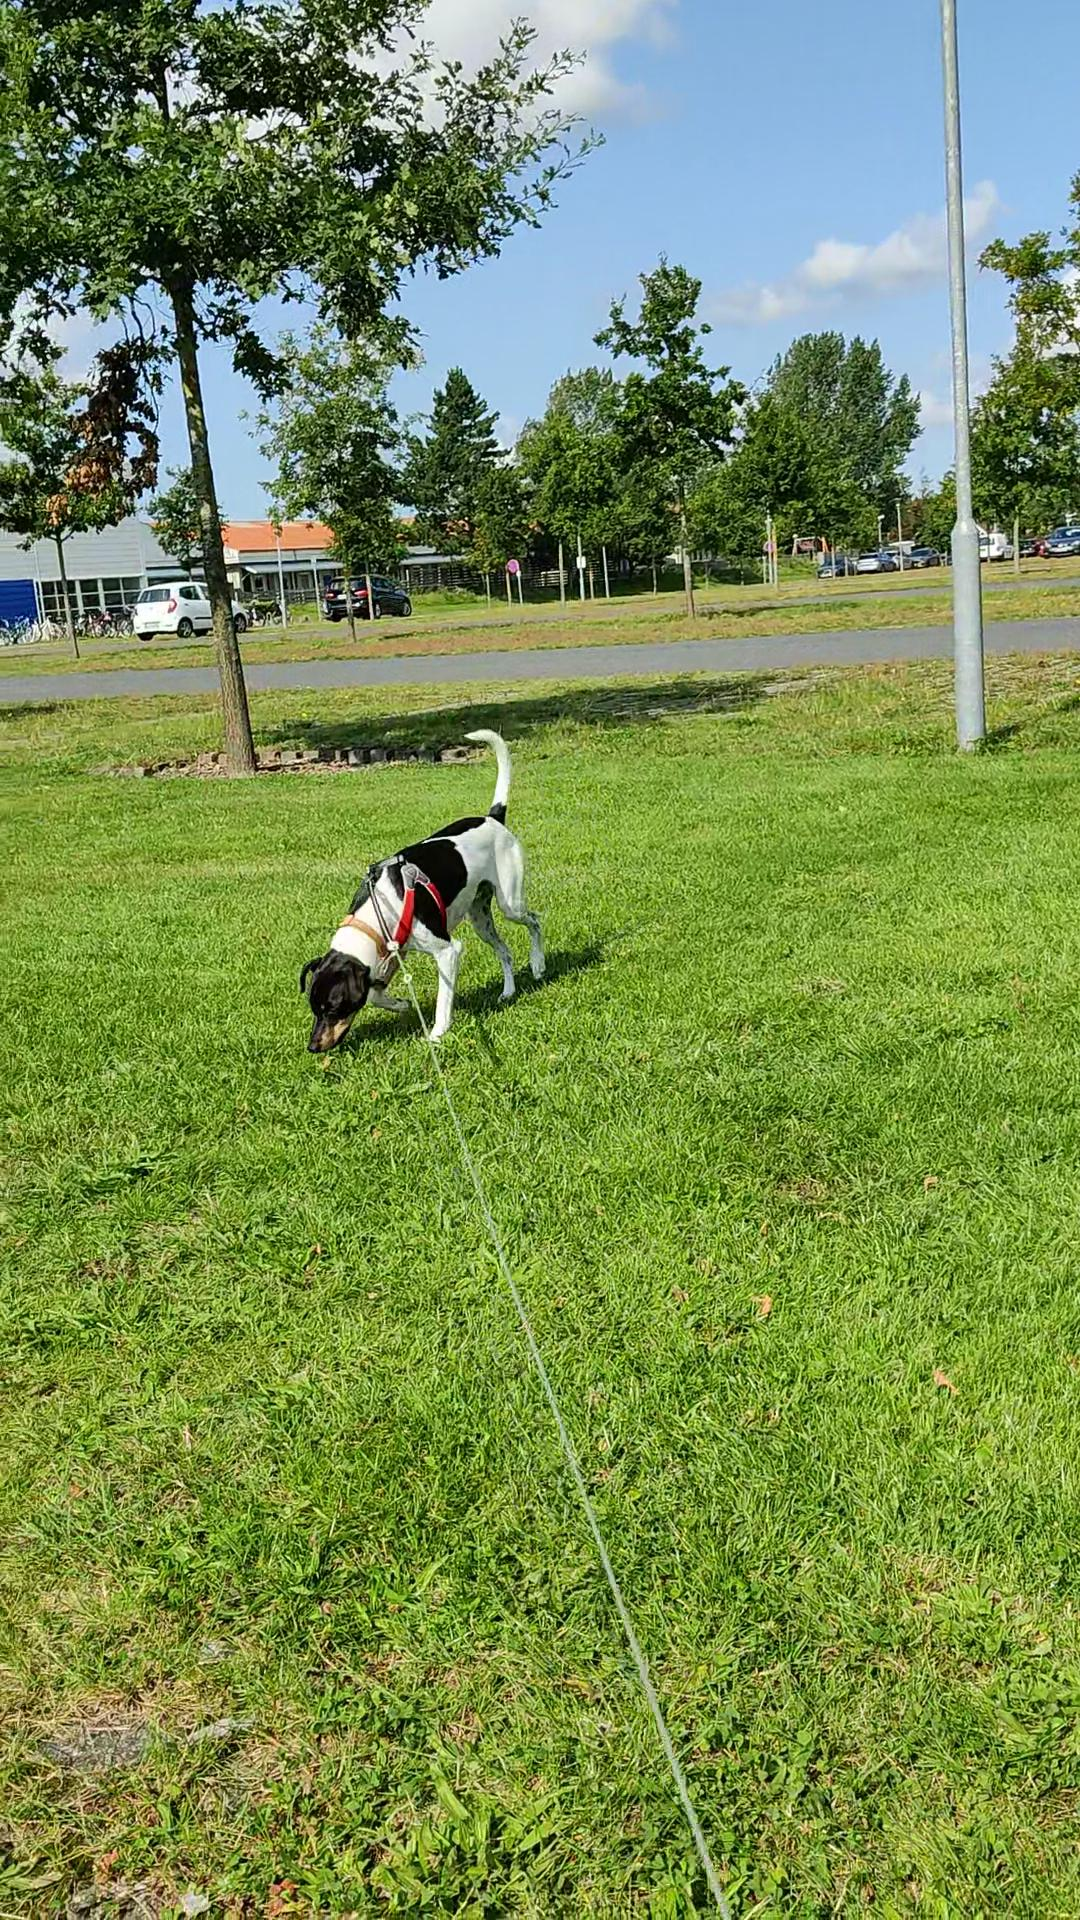Dog: (295, 727, 553, 1058)
